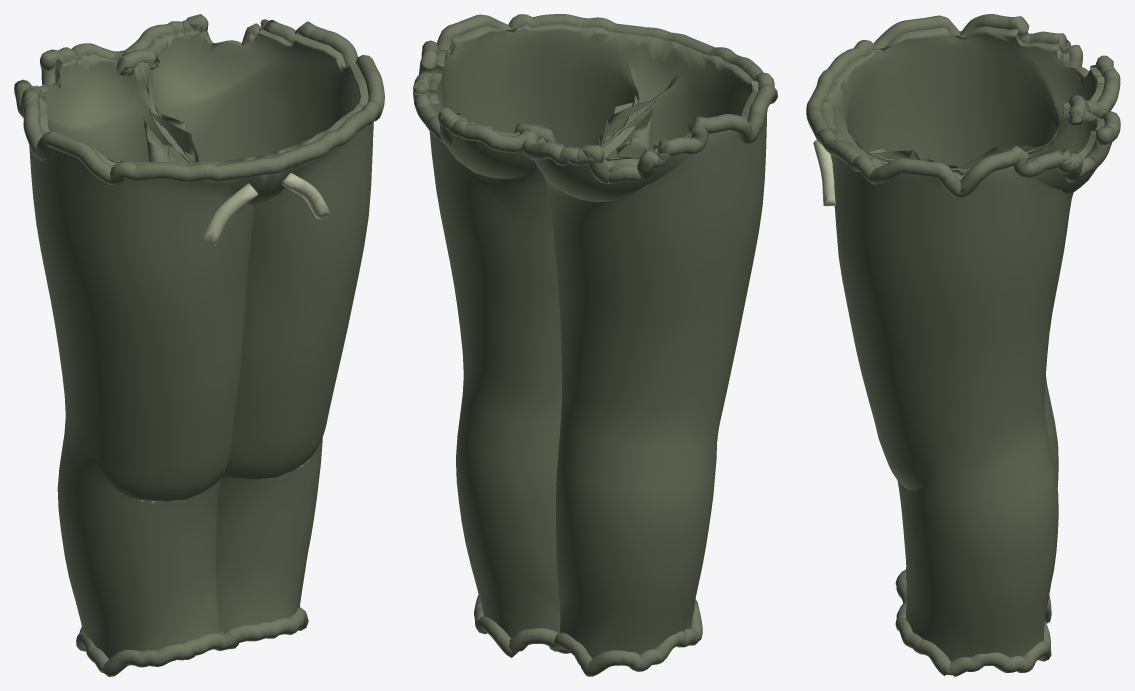
File: 4HT-feminino.glb
The picture shows the model from 3 angles, left to right: view 1: azimuth 30°, elevation 25°; view 2: azimuth 150°, elevation 25°; view 3: azimuth 270°, elevation 25°; orthographic projection. The views are drawn at different scales.
Parts seen in each view (by area): view 1: fitted-shell, bound-edge (×3), pocket--1, pocket-1; view 2: fitted-shell, bound-edge (×3); view 3: fitted-shell, bound-edge (×2), pocket-1.
Part boxes in pixels (x1,y1,x2,y2): fitted-shell: (29, 29, 373, 658); bound-edge (×3): (14, 14, 384, 676); pocket--1: (202, 183, 258, 245); pocket-1: (282, 173, 329, 219); fitted-shell: (429, 24, 767, 658); bound-edge (×3): (413, 14, 777, 676); fitted-shell: (821, 26, 1104, 665); bound-edge (×2): (806, 14, 1120, 676); pocket-1: (813, 140, 835, 206).
Bounding box in the file's own units: 0.0295 × 0.0496 × 0.0252.
